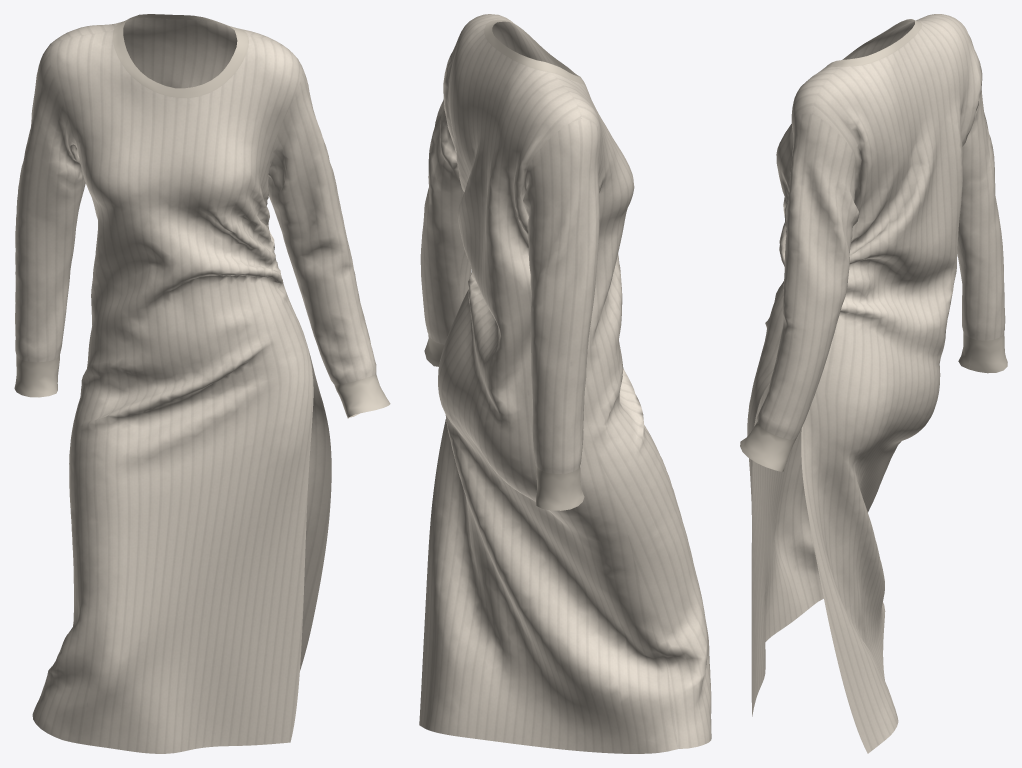
The model's file is girls_long_sweater.glb.
The picture shows the model from 3 angles, left to right: view 1: azimuth 30°, elevation 25°; view 2: azimuth 150°, elevation 25°; view 3: azimuth 270°, elevation 25°; orthographic projection. The views are drawn at different scales.
Parts seen in each view (by area): view 1: Girls Long Sweater; view 2: Girls Long Sweater; view 3: Girls Long Sweater.
Boxes of the visible parts, left/top/right/bottom form: Girls Long Sweater: left=14, top=14, right=390, bottom=753; Girls Long Sweater: left=419, top=14, right=711, bottom=753; Girls Long Sweater: left=740, top=14, right=1007, bottom=753.
Bounding box in the file's own units: 0.546 × 1.17 × 0.4231.
Materials: 2 (2 with a texture image).
